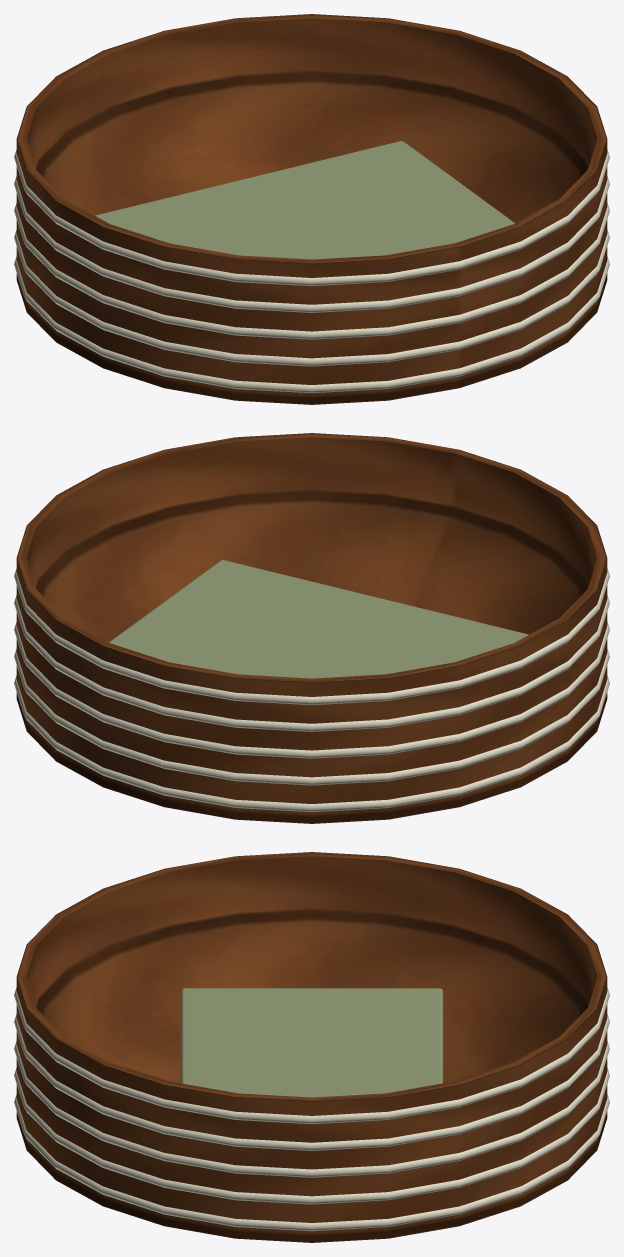
File: creature-husbandry-and-transport-juvenile-resting-bask-8089ceab__24010.glb
3 renders of one model, top to bottom at view 1: azimuth 30°, elevation 25°; view 2: azimuth 150°, elevation 25°; view 3: azimuth 270°, elevation 25°, orthographic.
Parts seen in each view (by area): view 1: juvenile-resting-basket; view 2: juvenile-resting-basket; view 3: juvenile-resting-basket.
Part boxes in pixels (x1,y1,x2,y2): juvenile-resting-basket: (14, 14, 609, 404); juvenile-resting-basket: (14, 433, 609, 823); juvenile-resting-basket: (14, 852, 609, 1242).
Size of the model in its own units: 0.908 by 0.25 by 0.908.
3 materials, 1 textured.
